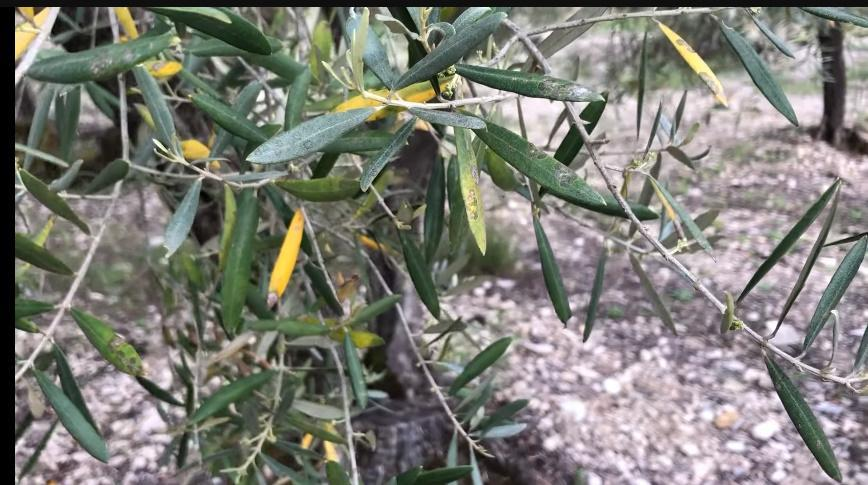OlivePeacockSpot: (459, 112, 609, 210), (244, 104, 375, 166), (28, 32, 174, 85), (652, 18, 730, 108), (454, 64, 607, 105), (72, 307, 151, 380), (266, 208, 308, 311), (356, 120, 416, 192), (454, 132, 488, 258), (276, 178, 363, 204), (139, 62, 183, 76)
